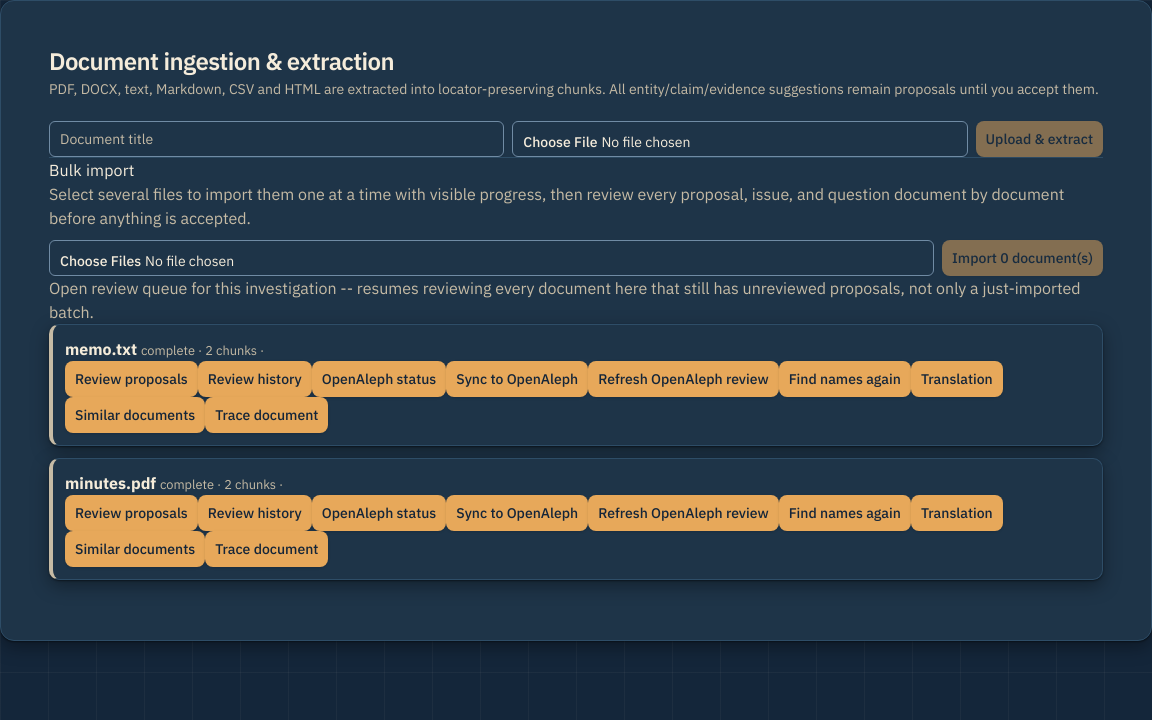
Documents in the corpus › lists similar documents and opens one in the documents panel at its page
The image size is (1152, 720).
expect the text "memo.txt" is shown: met, box [65, 339, 137, 359]
Click the button "Similar documents" below "memo.txt": (135, 415) [65, 397, 205, 433]
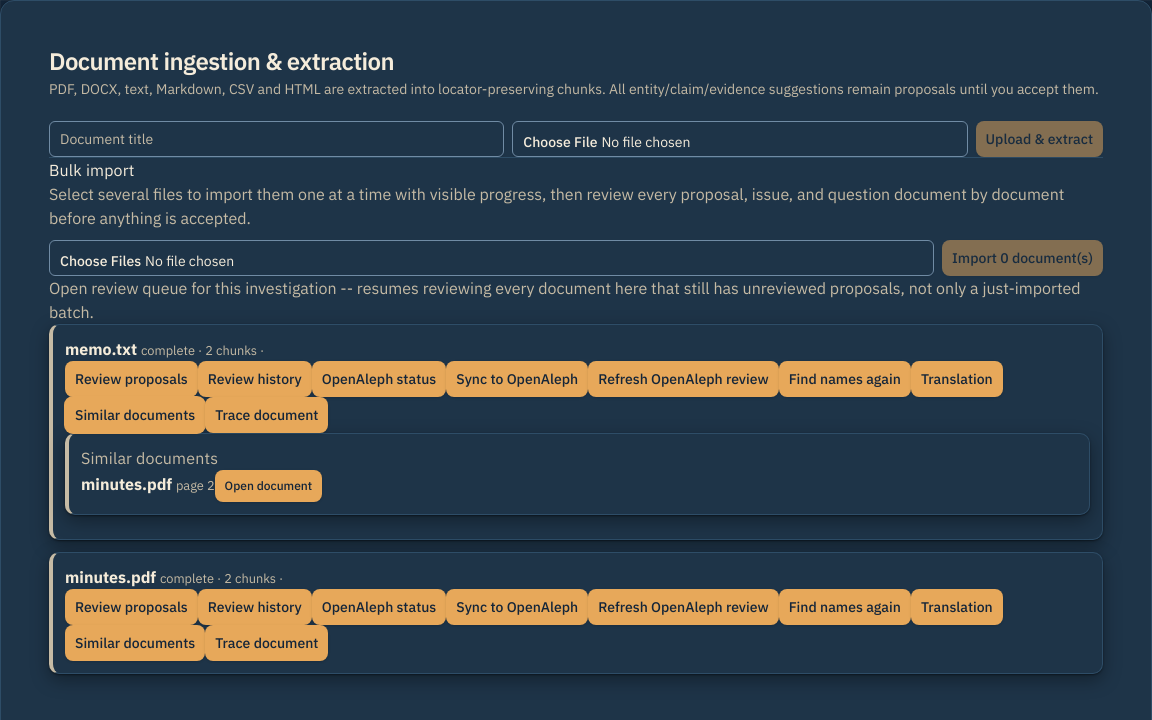
Click the button "Open document": (268, 486) [215, 470, 322, 502]
(page scrolled)
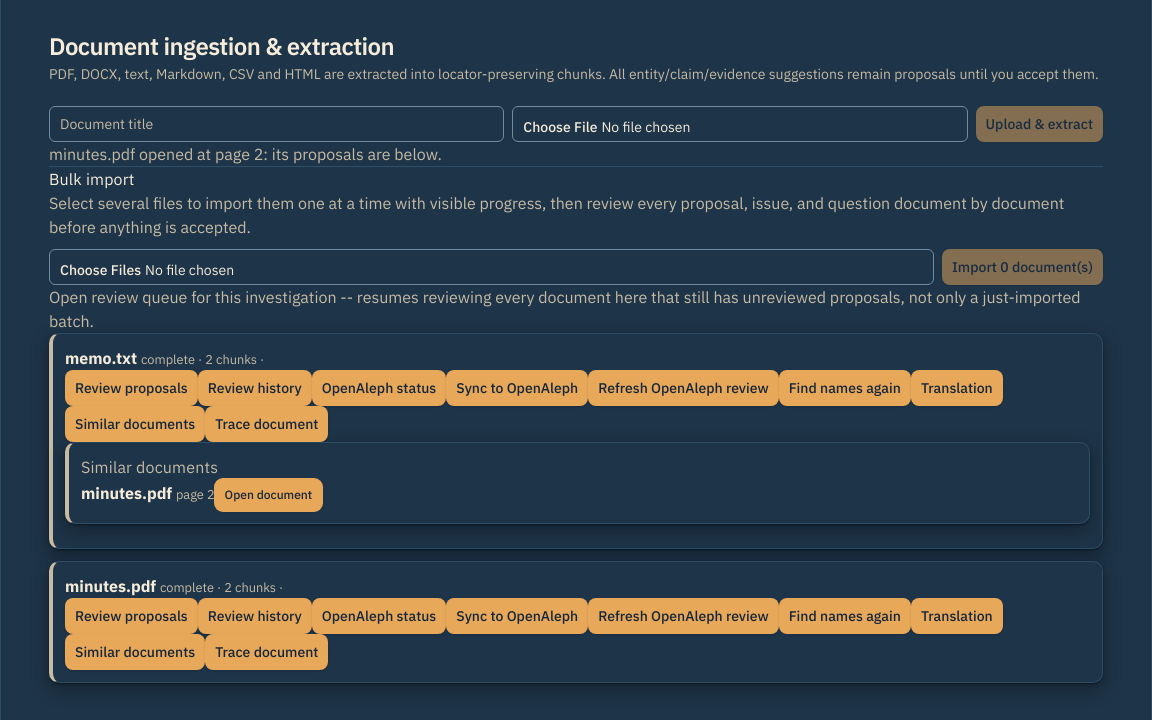
expect the text "minutes.pdf opened at page 2: its proposals are below." is shown: met, box [49, 144, 442, 164]
